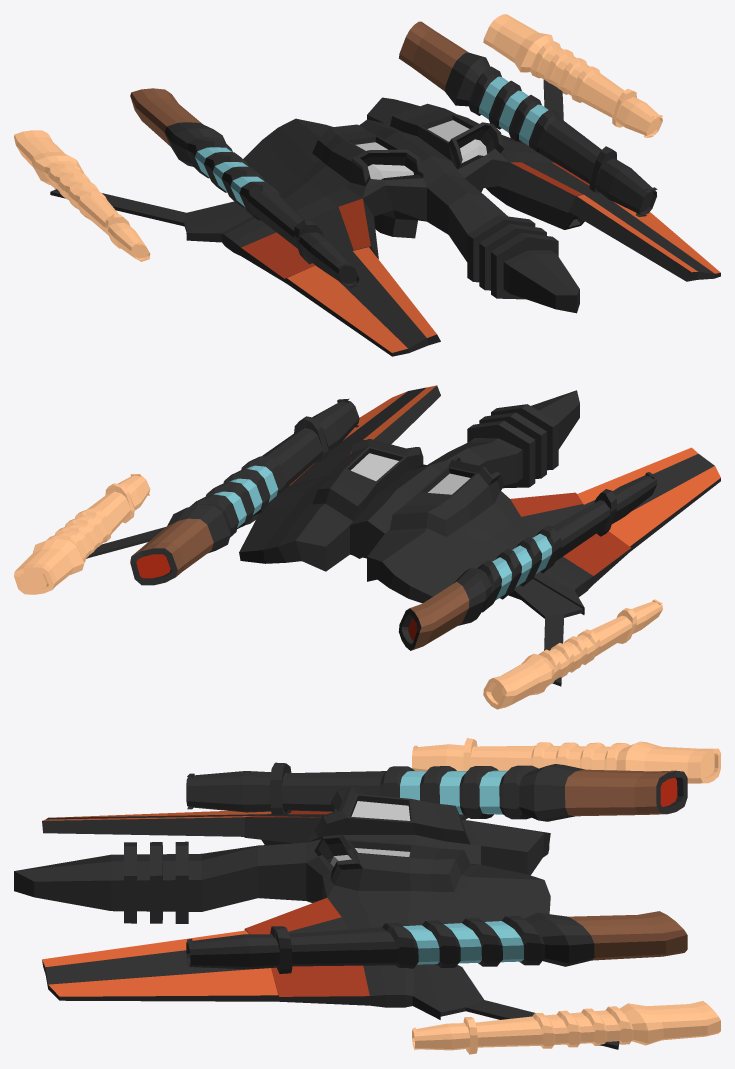
File: Enemy Ships.fbx
3 renders of one model, top to bottom at view 1: azimuth 30°, elevation 25°; view 2: azimuth 150°, elevation 25°; view 3: azimuth 270°, elevation 25°, orthographic. The views are drawn at different scales.
Visible parts, largest first — view 1: Cube; view 2: Cube; view 3: Cube.
Boxes of the visible parts, left/top/right/bottom form: Cube: left=14, top=14, right=720, bottom=356; Cube: left=14, top=385, right=720, bottom=709; Cube: left=14, top=738, right=720, bottom=1054.
Size of the model in its own units: 11.93 by 12.3 by 2.18.
1 material, 1 textured.
